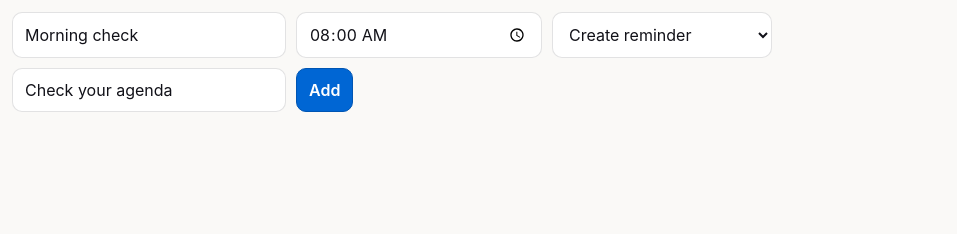
Test case: RuleForm › shows task fields when Create task is selected
The image size is (957, 234).
Select "Create task" in the dropdown named "Rule action type": (662, 35) left=552, top=12, right=772, bottom=58
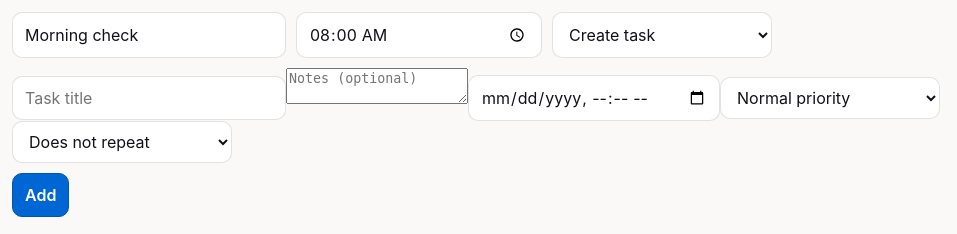
Result: the field labelled "Task title" is shown at left=12, top=76, right=286, bottom=120
Result: the text box named "Task notes" is shown at left=286, top=68, right=468, bottom=104
Result: the field named "Task due date" is shown at left=468, top=75, right=720, bottom=121
